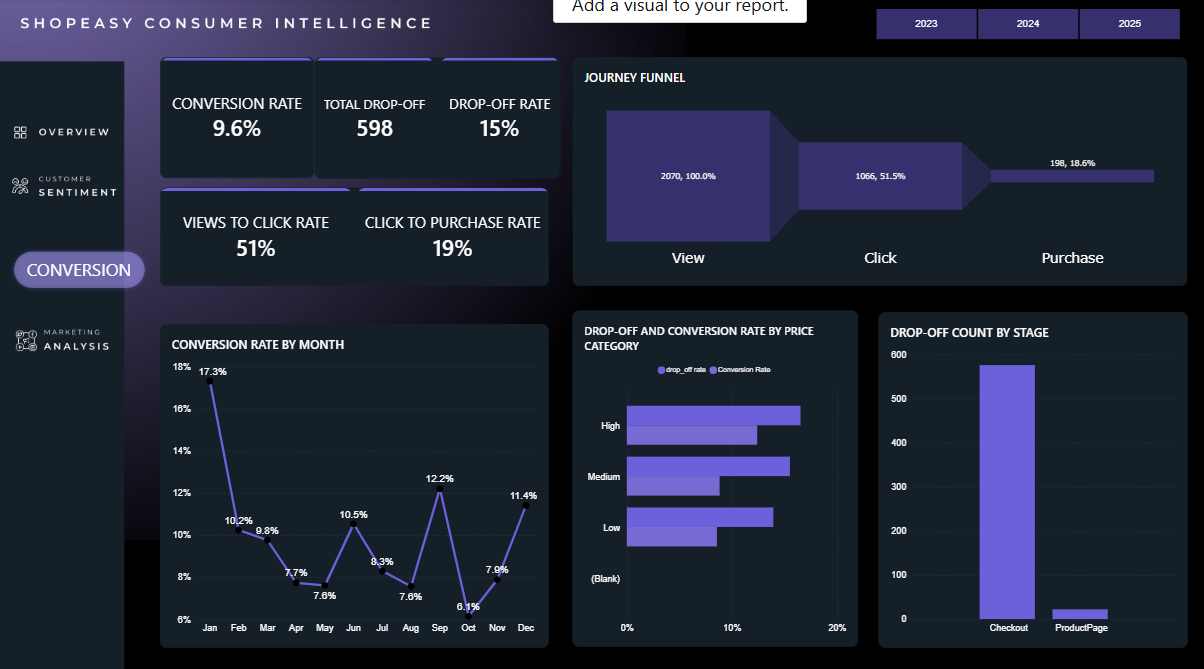

The dashboard page shown, as its layout file describes it:
{"tool":"powerbi","page":{"name":"Conversion Analysis","canvas":[1600,900],"ordinal":2},"visuals":[{"type":"cardVisual","fields":{"Data":["calculations.Conversion Rate"]},"box":[214.8,80.3,204.9,160.7],"z":0},{"type":"cardVisual","fields":{"Data":["calculations.Total Dropoffs","calculations.drop_off rate"]},"box":[420.2,79.8,326.7,161],"z":1000},{"type":"columnChart","title":"DROP-OFF COUNT BY STAGE","fields":{"Category":["customer_journey_cleaned.Stage"],"Y":["CountNonNull(customer_journey_cleaned.JourneyID)"]},"box":[1166.7,416.7,410,445],"z":2000},{"type":"clusteredBarChart","title":"DROP-OFF AND CONVERSION RATE BY PRICE CATEGORY","fields":{"Category":["products.Price Category"],"Y":["calculations.drop_off rate","calculations.Conversion Rate"]},"box":[760.7,415.6,378.8,446.3],"z":3000},{"type":"cardVisual","fields":{"Data":["calculations.View to Click Rate","calculations.Click to Purchase Rate"]},"box":[214.7,253.1,515.3,130.4],"z":4000},{"type":"stackedhorizontalfunnelEC4E2CF18990EF8267C380787C9A6BC9","title":"JOURNEY FUNNEL","fields":{"col_0":["customer_journey_cleaned.Action"],"col_1":["CountNonNull(customer_journey_cleaned.JourneyID)"]},"box":[760.7,80.3,814.8,303.3],"z":5000},{"type":"lineChart","title":"CONVERSION RATE BY MONTH","fields":{"Category":["Calendar.MonthNameShort"],"Y":["calculations.Conversion Rate"]},"box":[214.7,432.5,515.3,429.5],"z":6000},{"type":"slicer","fields":{"Values":["Calendar.Date.Variation.Date Hierarchy.Year"]},"box":[1142.6,13.1,442.6,44.3],"z":7000},{"type":"shape","box":[11.7,305,150,111.7],"z":8000},{"type":"shape","box":[0,316.7,215,90],"z":9000},{"type":"pageNavigator","box":[0,131.7,183.3,100],"z":10000},{"type":"pageNavigator","box":[0,205,183.3,100],"z":11000},{"type":"pageNavigator","box":[0,400,183.3,100],"z":12000}]}

Visuals, with their boxes in screenshot pixels (x1, y1, x2, y2), scaled from the page's 1600x900 canvas onto the 1204x669 screenshot:
cardVisual - calculations.Conversion Rate: left=162, top=60, right=316, bottom=179
cardVisual - calculations.Total Dropoffs x calculations.drop_off rate: left=316, top=59, right=562, bottom=179
"DROP-OFF COUNT BY STAGE" columnChart: left=878, top=310, right=1186, bottom=641
"DROP-OFF AND CONVERSION RATE BY PRICE CATEGORY" clusteredBarChart: left=572, top=309, right=857, bottom=641
cardVisual - calculations.View to Click Rate x calculations.Click to Purchase Rate: left=162, top=188, right=549, bottom=285
"JOURNEY FUNNEL" stackedhorizontalfunnelEC4E2CF18990EF8267C380787C9A6BC9: left=572, top=60, right=1186, bottom=285
"CONVERSION RATE BY MONTH" lineChart: left=162, top=321, right=549, bottom=641
slicer - Calendar.Date.Variation.Date Hierarchy.Year: left=860, top=10, right=1193, bottom=43
shape: left=9, top=227, right=122, bottom=310
shape: left=0, top=235, right=162, bottom=302
pageNavigator: left=0, top=98, right=138, bottom=172
pageNavigator: left=0, top=152, right=138, bottom=227
pageNavigator: left=0, top=297, right=138, bottom=372
